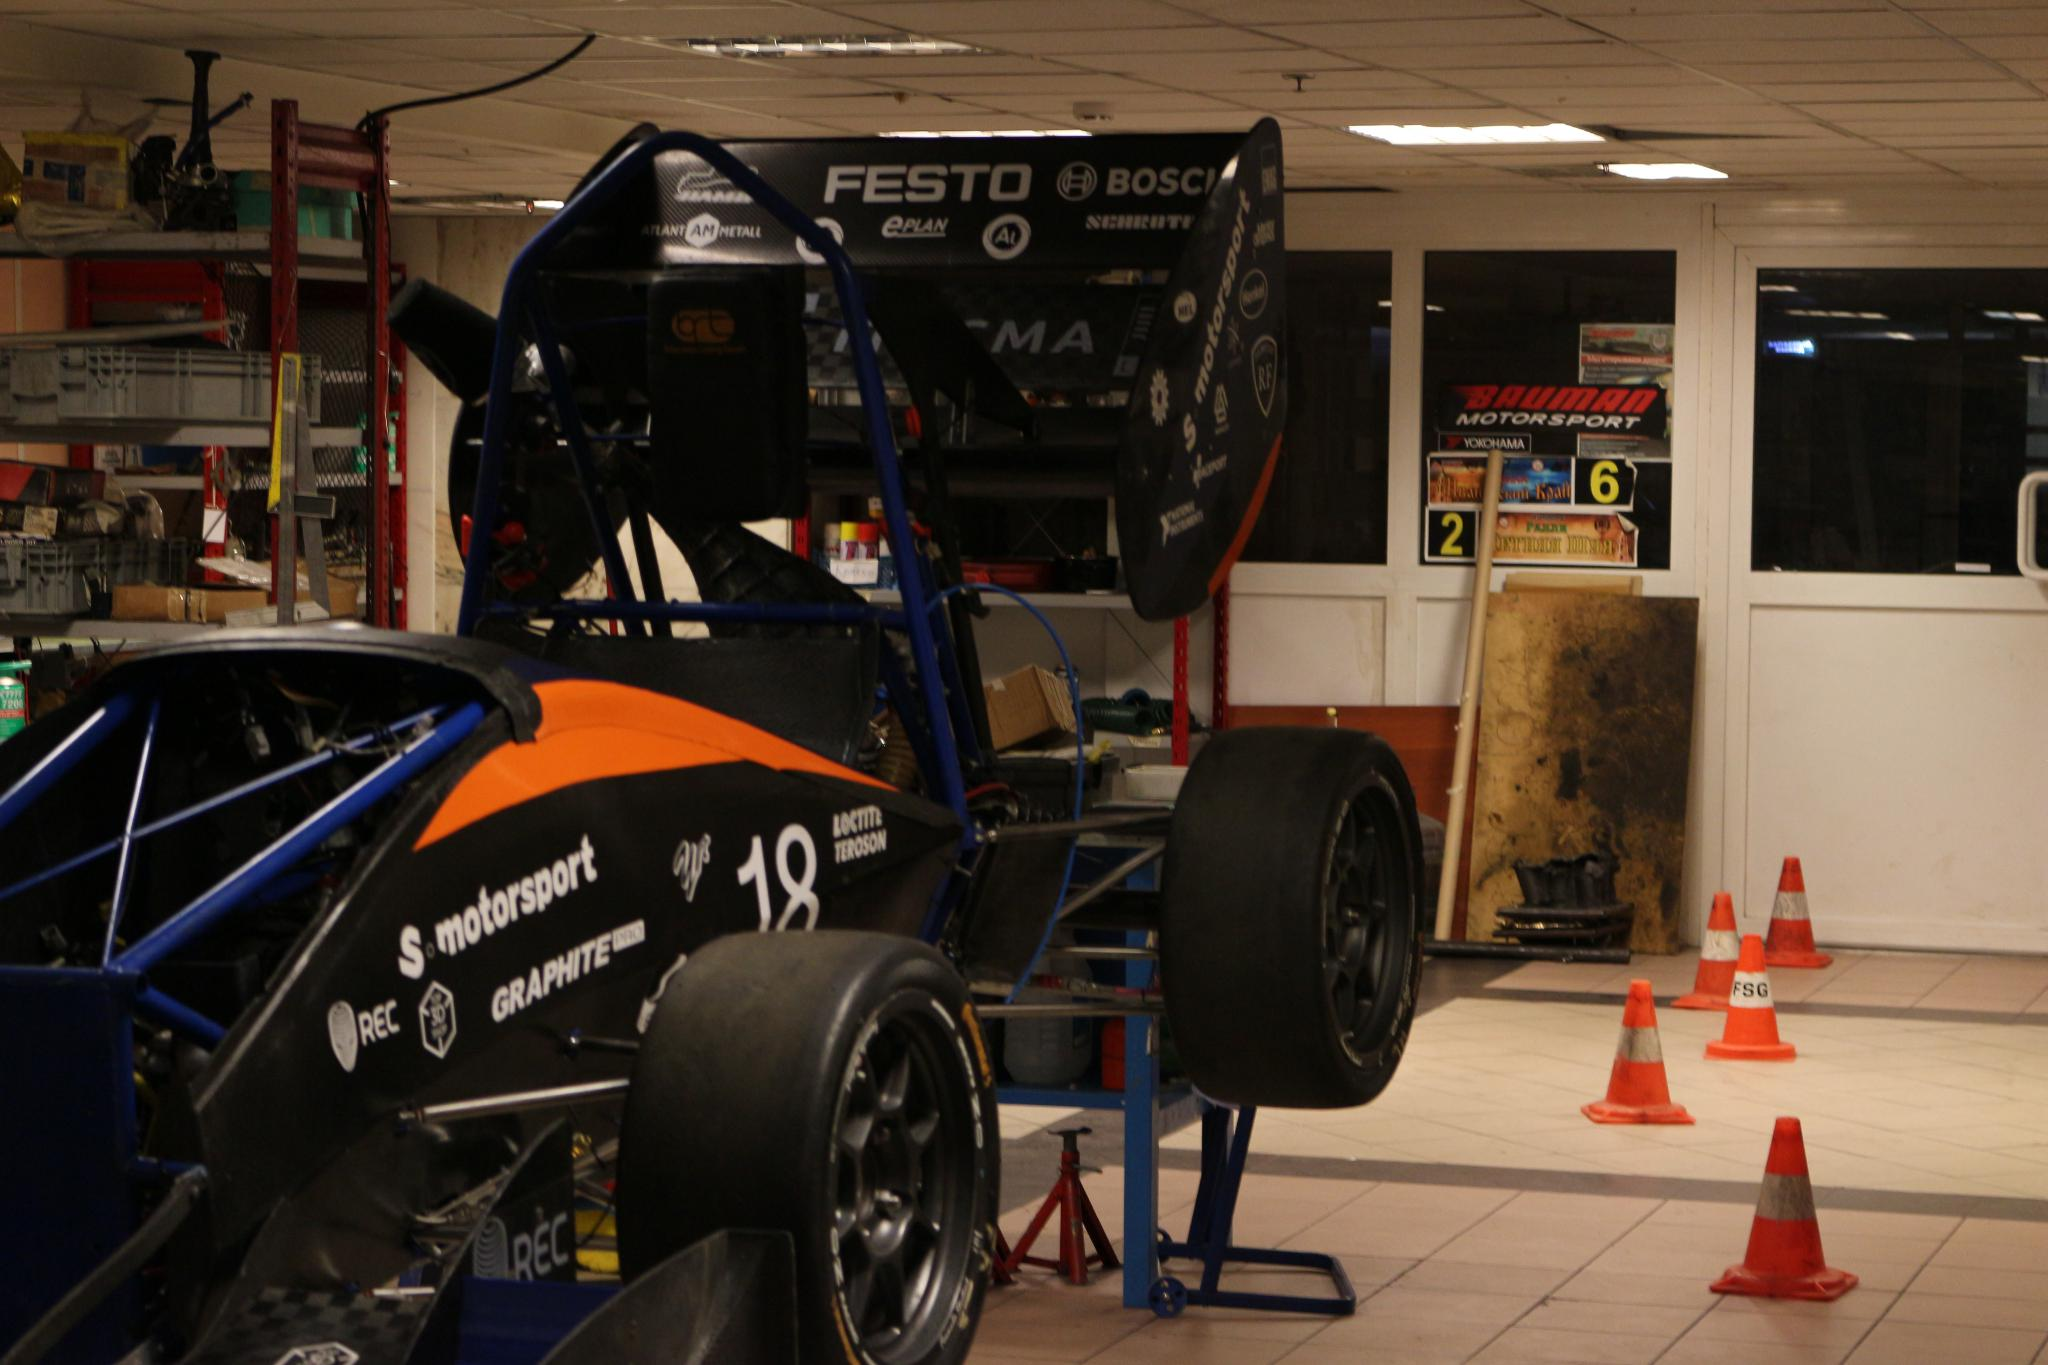Orange_Cone: (1707, 1109, 1864, 1307), (1584, 978, 1699, 1129), (1704, 932, 1803, 1065), (1667, 888, 1756, 1010), (1747, 853, 1835, 969)
